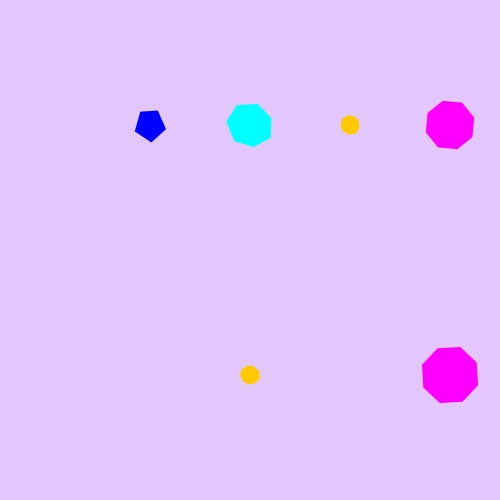heptagon: (224, 100, 277, 151)
nonagon: (336, 111, 365, 139), (236, 361, 265, 389)
octagon: (417, 342, 483, 408), (421, 96, 479, 154)
pentagon: (131, 106, 170, 145)
